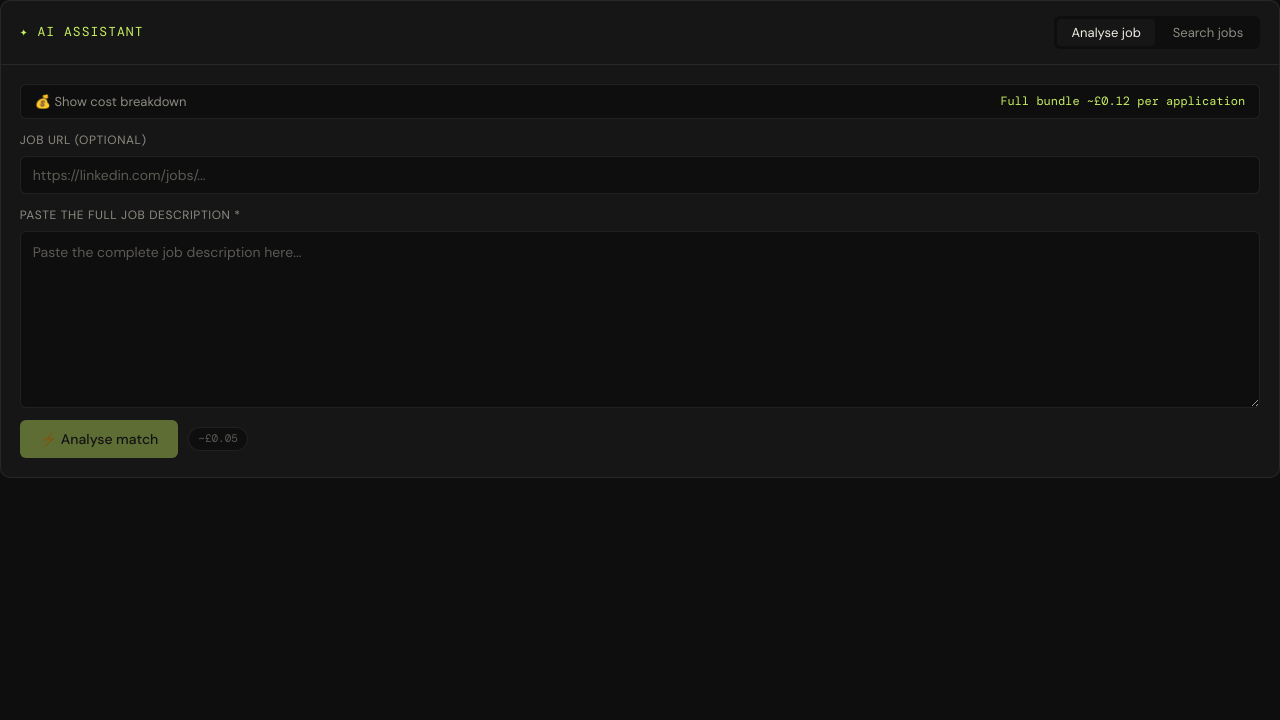
Scenario: AIPanel › analyse job › shows an error when analysis fails
In the text box with placeholder "Paste the complete job description here...": coordinates (640, 319) [20,231,1260,408], type "React frontend developer"
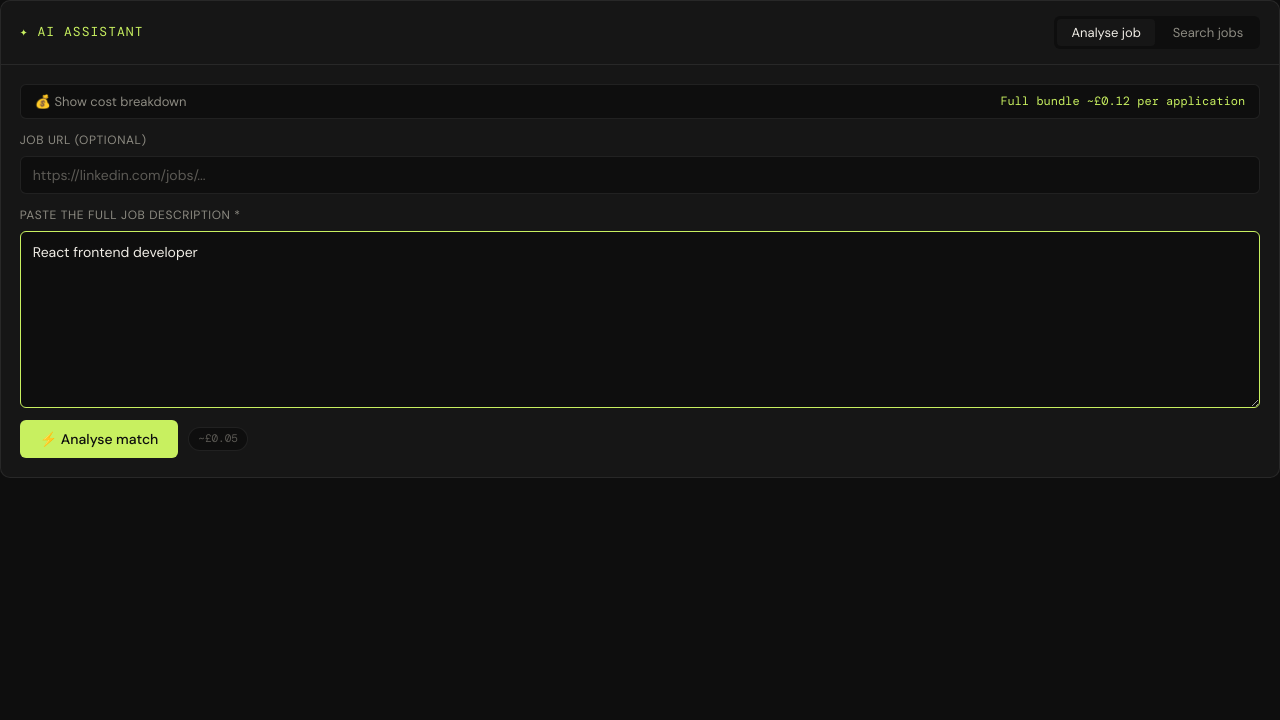
Click the button "⚡ Analyse match": coordinates (99, 439) [20,420,178,458]
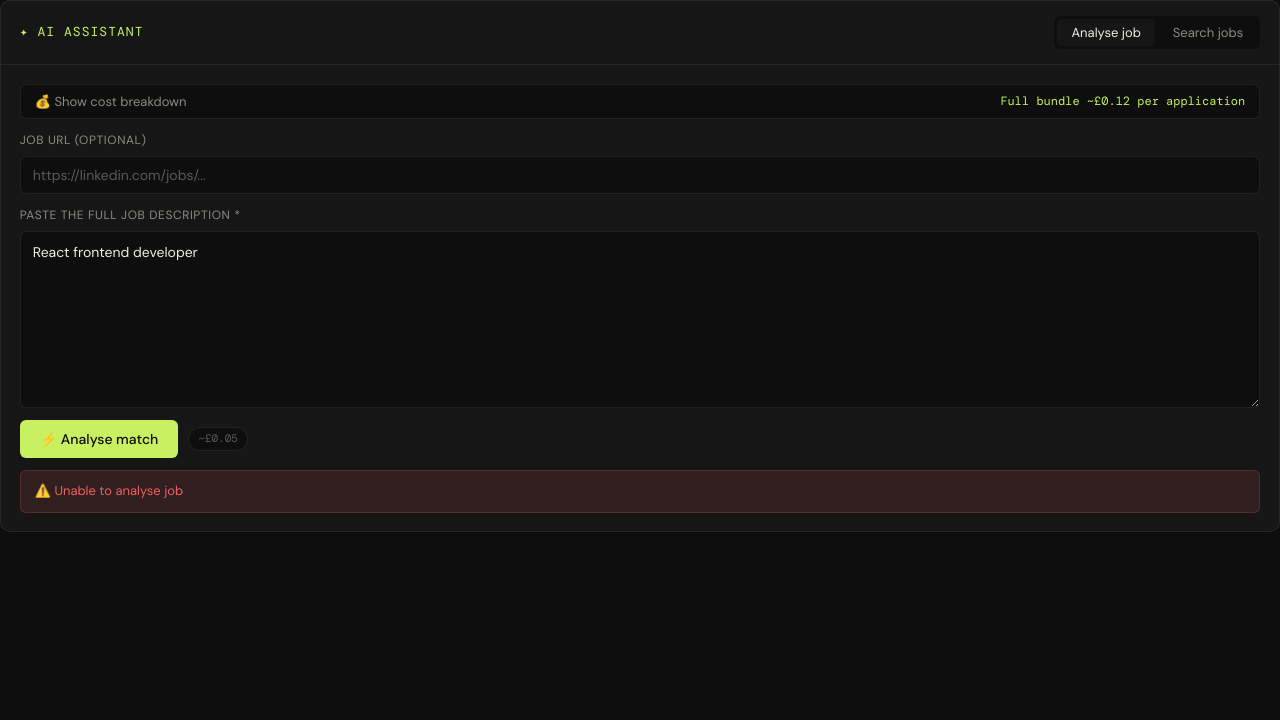
Now the text "⚠️ Unable to analyse job" is shown, box [20,470,1260,513]
